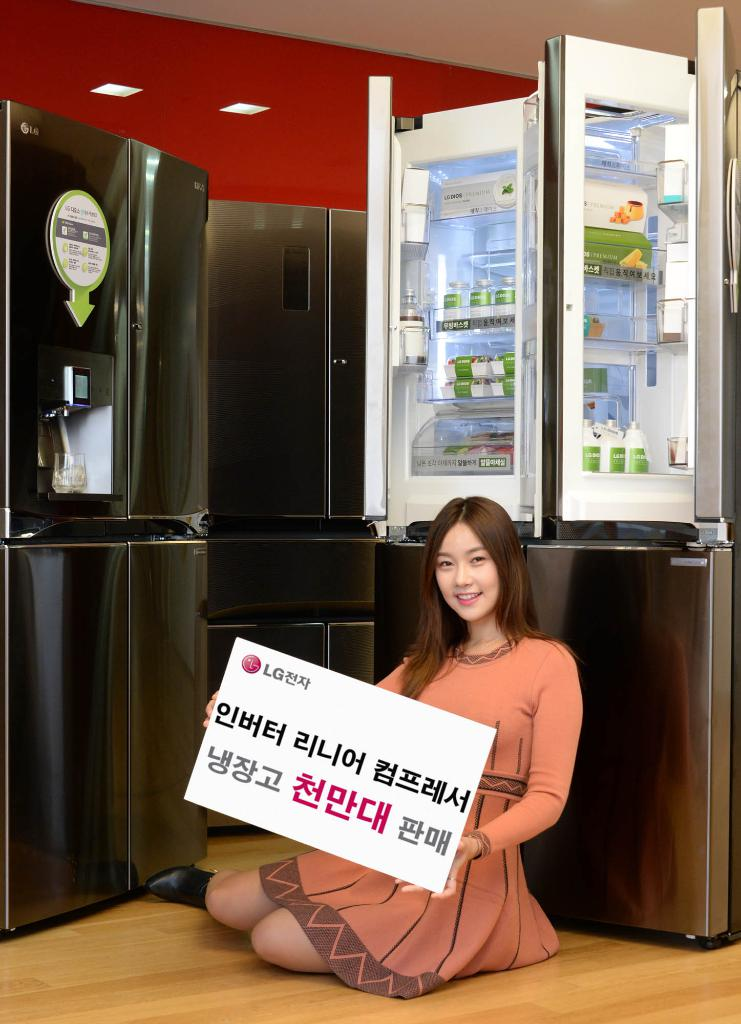handle: (10, 508, 209, 558), (226, 607, 380, 649), (225, 516, 367, 560)
refrigerator door: (528, 542, 703, 933), (566, 55, 691, 519), (12, 119, 126, 513), (214, 202, 327, 566), (21, 552, 128, 895), (130, 156, 209, 511), (133, 545, 206, 860), (697, 64, 732, 522), (331, 235, 377, 538), (364, 101, 392, 505), (213, 620, 318, 714), (332, 620, 375, 704)
